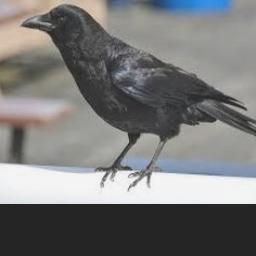Crow: (20, 3, 256, 187)
